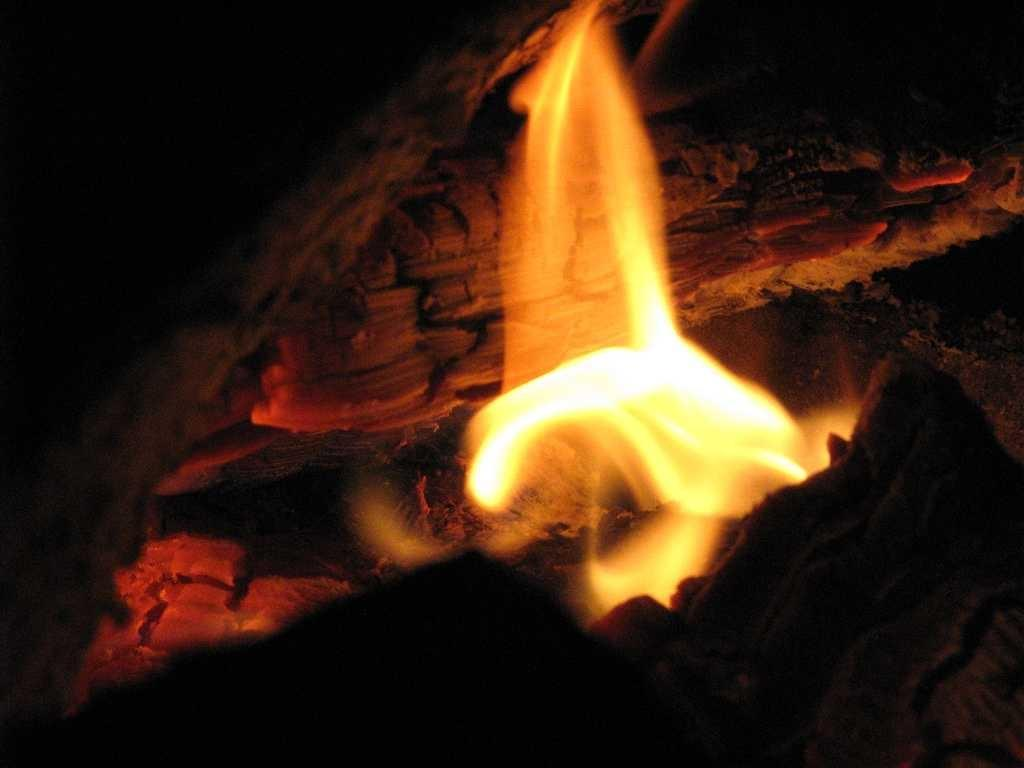fire: (510, 168, 666, 562), (684, 354, 756, 520)
